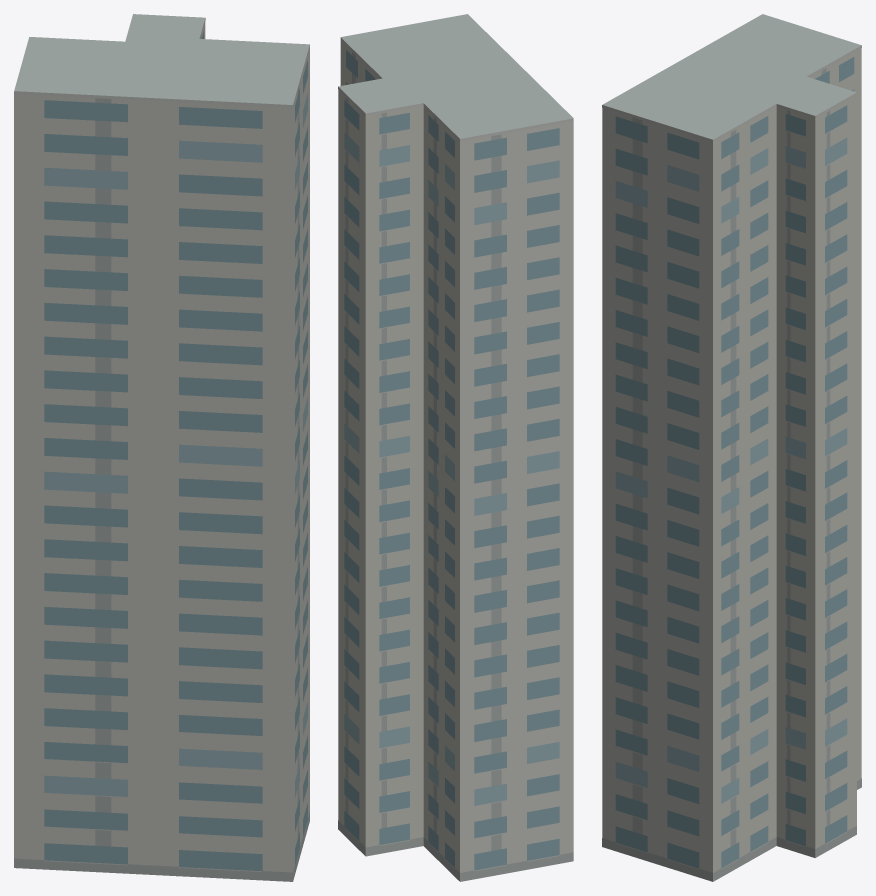
Rendered from residential-23bd9b3b-b116-42d9-89ad-30eb8daa31ff.glb.
3 renders of one model, left to right at view 1: azimuth 30°, elevation 25°; view 2: azimuth 150°, elevation 25°; view 3: azimuth 270°, elevation 25°, orthographic. The views are drawn at different scales.
Parts seen in each view (by area): view 1: residential-23bd9b3b-b116-42d9-89ad-30eb8daa31ff.tmp; view 2: residential-23bd9b3b-b116-42d9-89ad-30eb8daa31ff.tmp; view 3: residential-23bd9b3b-b116-42d9-89ad-30eb8daa31ff.tmp.
Boxes of the visible parts, x1,y1,x2,y2 form: residential-23bd9b3b-b116-42d9-89ad-30eb8daa31ff.tmp: (14, 14, 309, 881); residential-23bd9b3b-b116-42d9-89ad-30eb8daa31ff.tmp: (338, 14, 573, 881); residential-23bd9b3b-b116-42d9-89ad-30eb8daa31ff.tmp: (602, 14, 861, 881).
Size of the model in its own units: 22.91 by 63 by 19.98.
